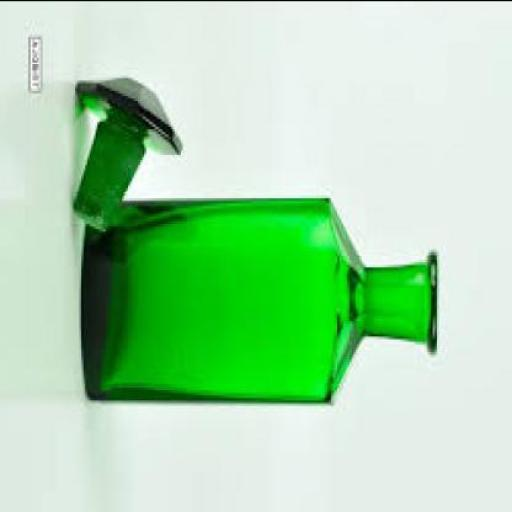glass: (81, 200, 441, 404), (75, 77, 185, 233)
